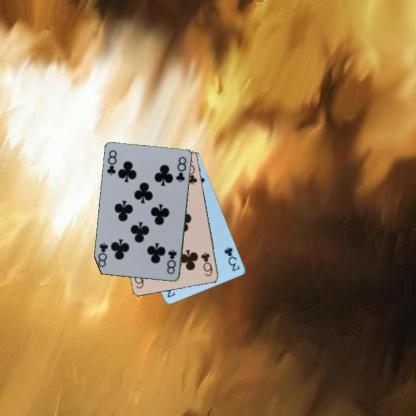3c: (222, 244, 241, 273)
6c: (198, 250, 214, 278)
8c: (104, 148, 118, 176), (165, 247, 178, 276)
